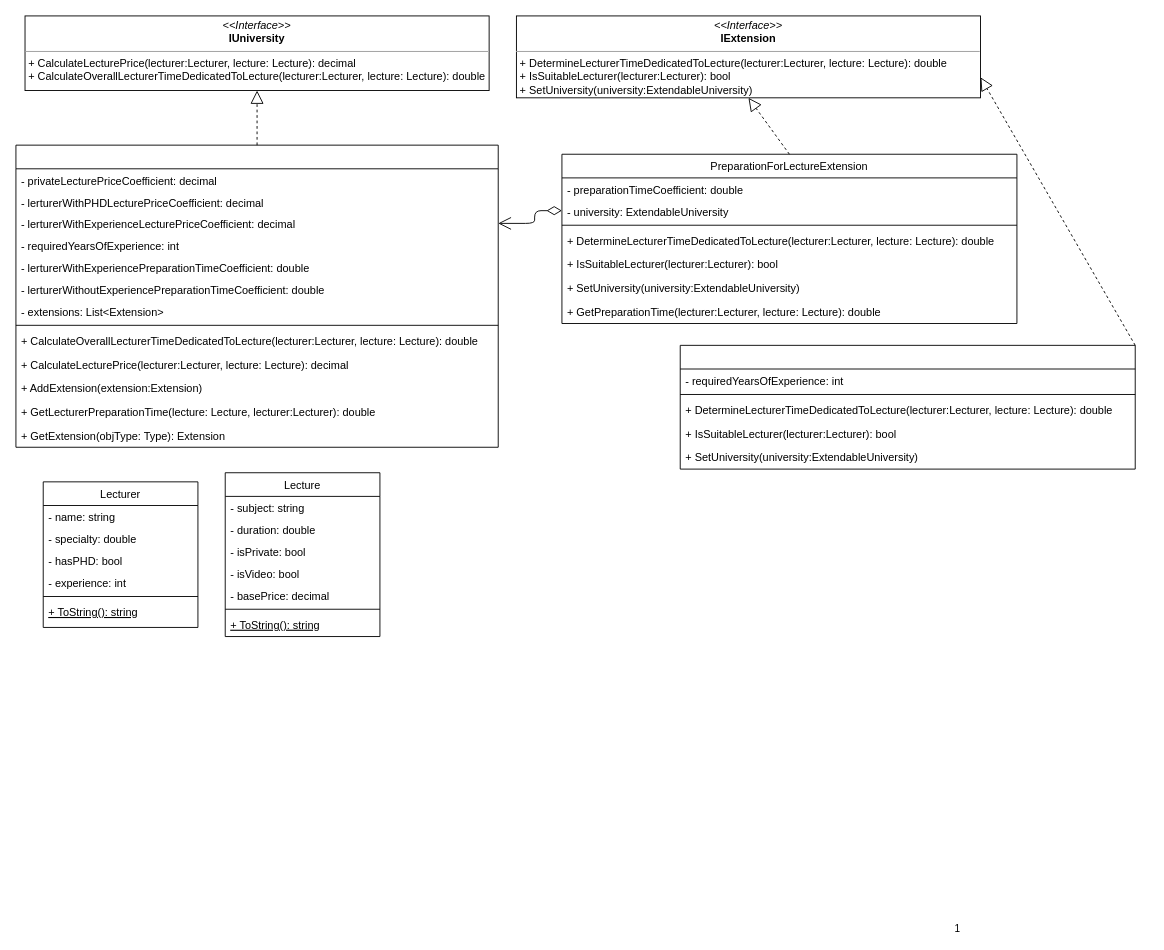
This 1164x950 diagram has some shape labels left out. The shapes that lost their labels are listed below. From the top down, each one's box as (x1, y1, x2, y2) in pixels, then its label:
(15, 144, 498, 447): ExtendableUniversity
(679, 344, 1135, 469): LecturerSuitabilityExtension
